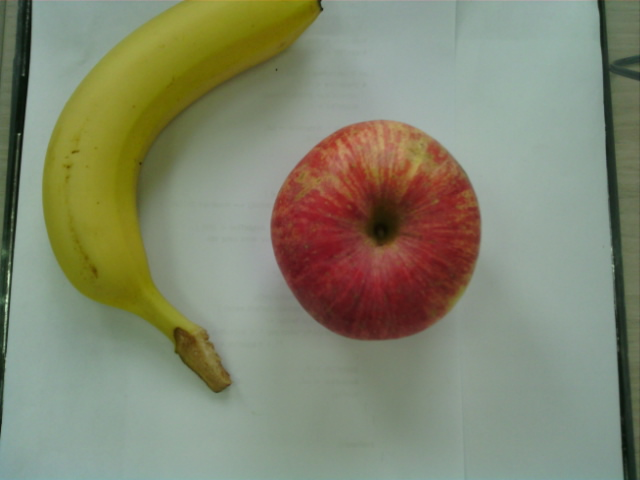normal_apple: (270, 121, 483, 343)
normal_banana: (43, 1, 321, 382)
